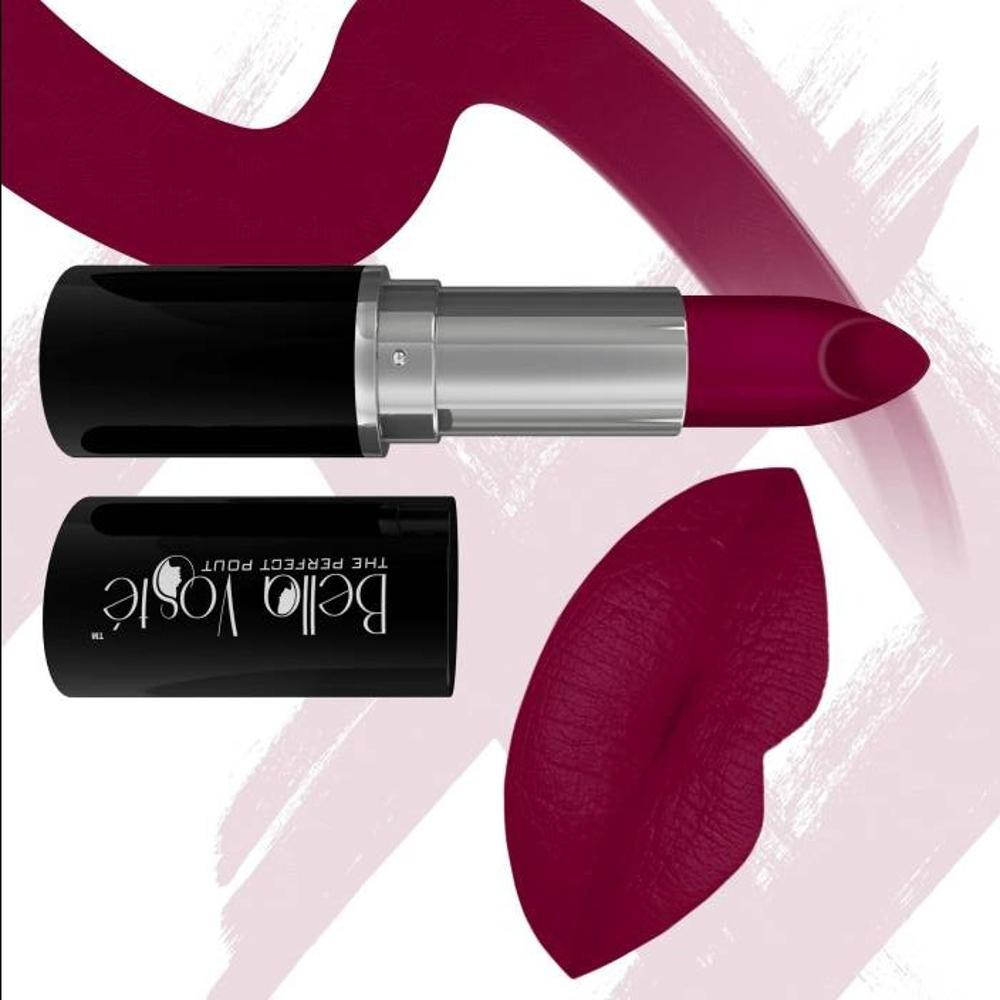lipstick: (14, 234, 929, 459)
